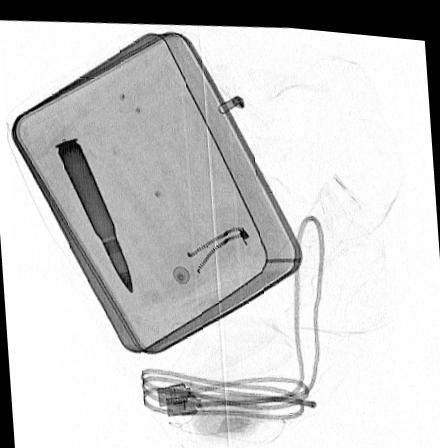Bullet: (54, 135, 134, 289)
